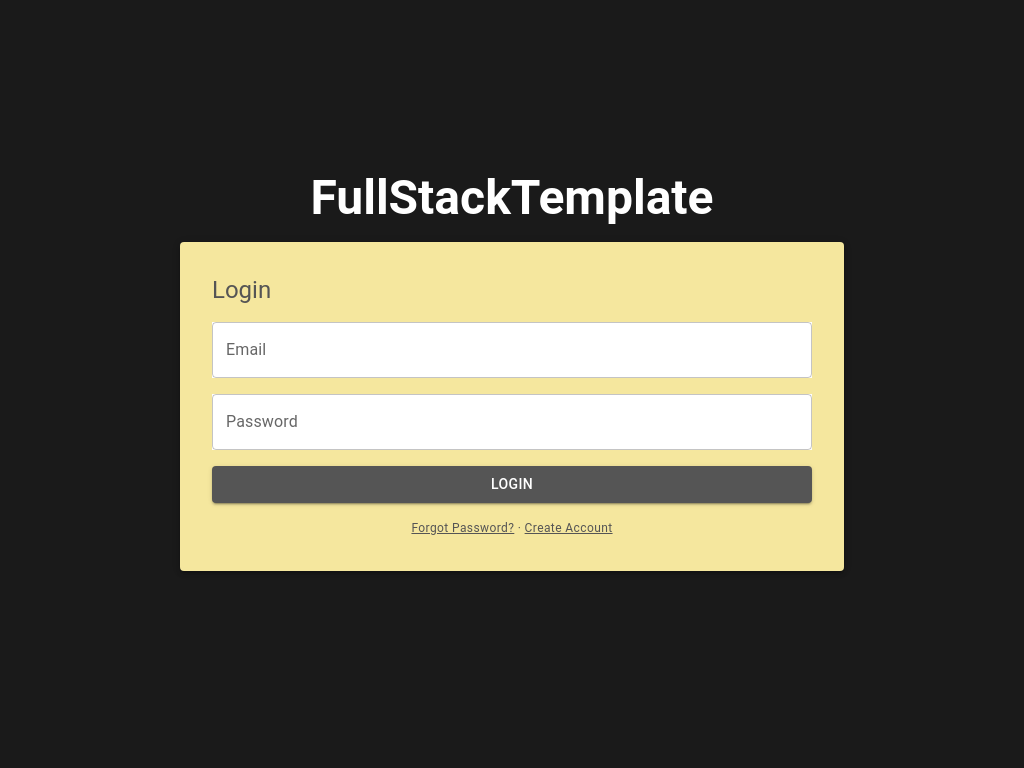
Test: real session route lifecycle › retains the complete consent query through lazy login and account publication
Type "reader@example.com" into the field labelled "Email" at (512, 350), box [212,322,812,378]
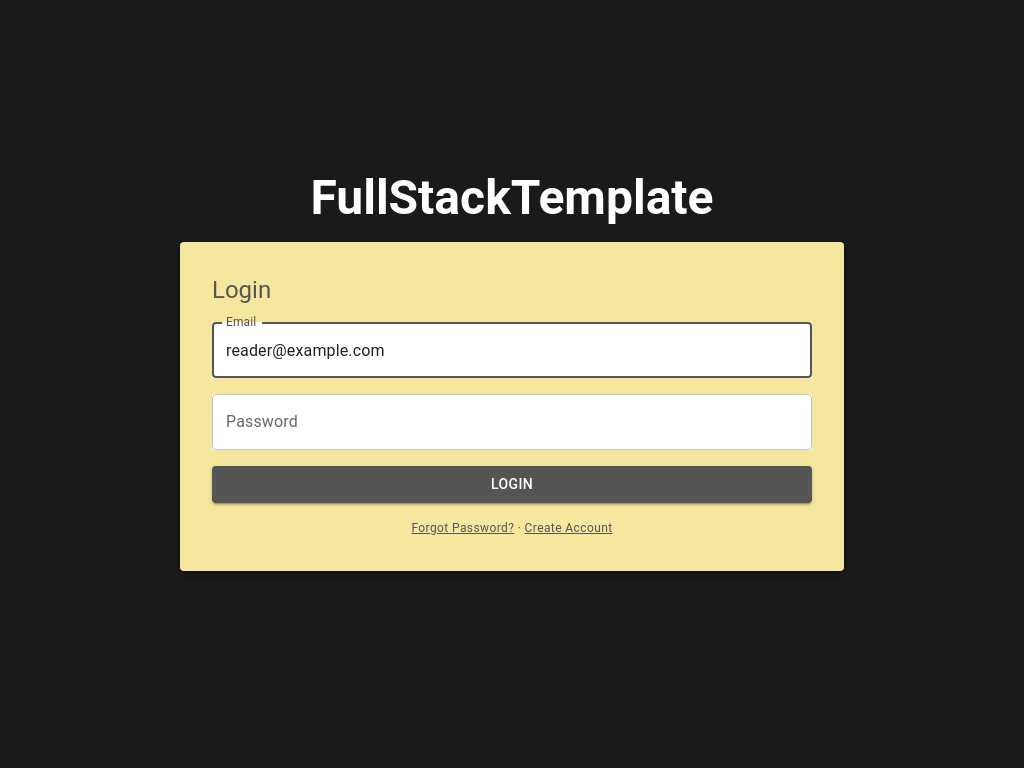
Type "password123" into the password field labelled "Password" at (512, 422), box [212,394,812,450]
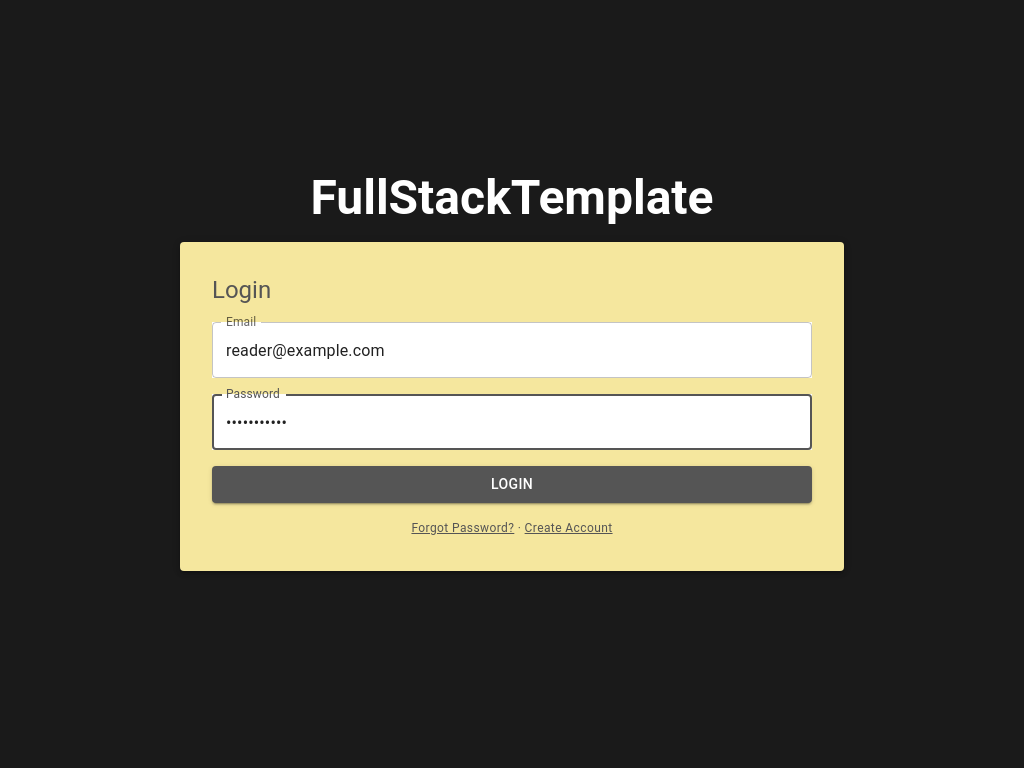
Click the button "Login" at (512, 484), box [212,466,812,503]
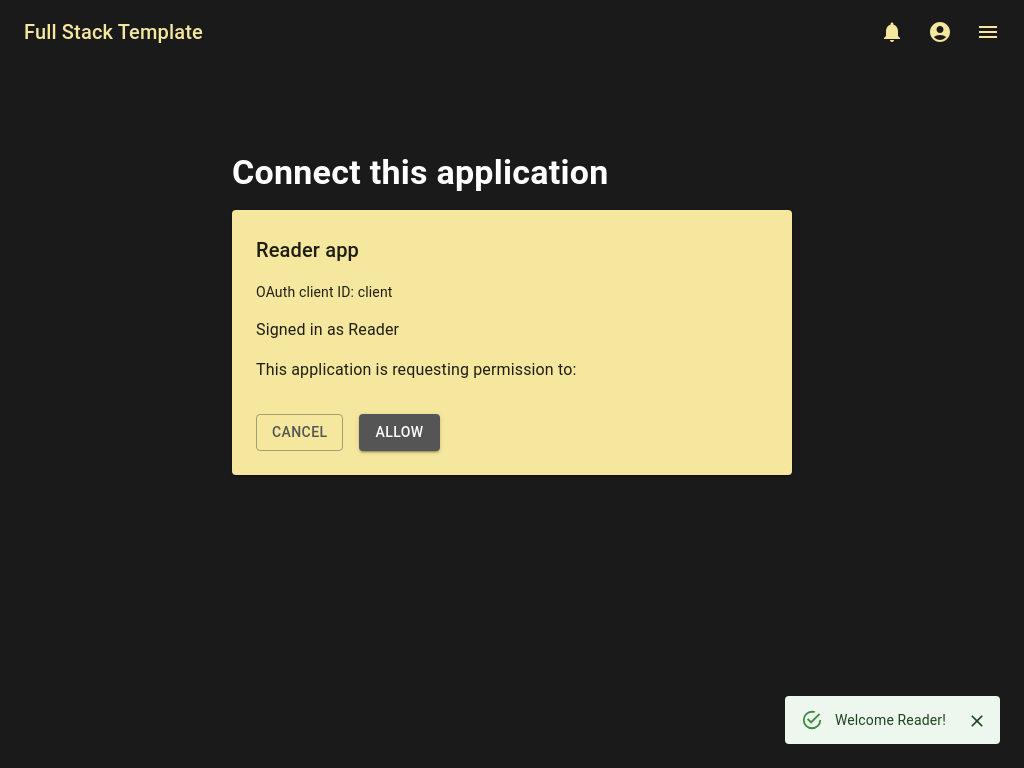
Check: the heading "Connect this application" is shown, box [232,152,608,192]
Check: the text "Signed in as Reader" is shown, box [256,320,399,339]
